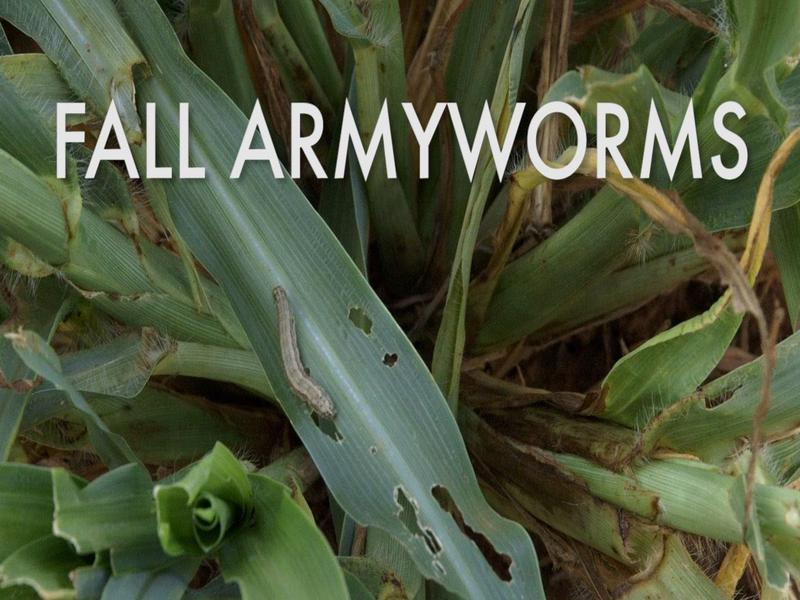Armyworms: (248, 265, 354, 449)
